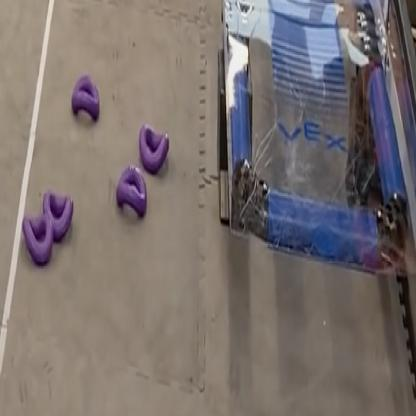ring: (42, 188, 74, 240), (116, 162, 146, 215), (22, 212, 53, 263), (138, 122, 169, 172), (71, 74, 99, 119)
